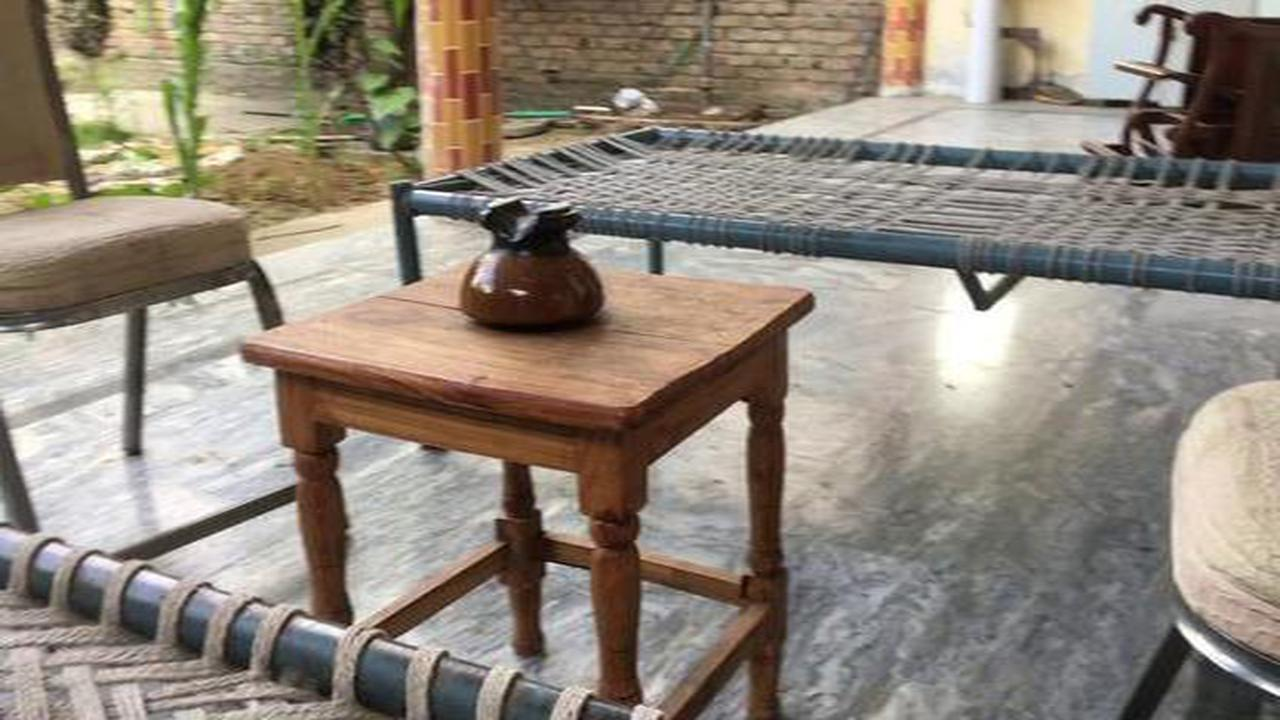insulator_pin: (444, 191, 616, 345)
